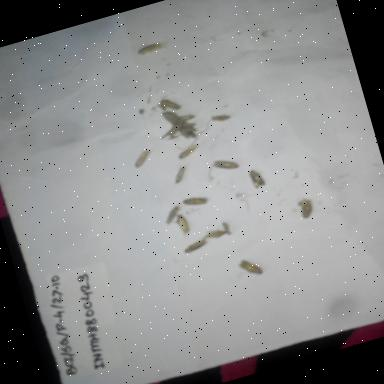pbw: (235, 253, 269, 283), (154, 198, 184, 228), (133, 36, 169, 60), (294, 196, 324, 222), (178, 235, 213, 257), (242, 165, 270, 192), (211, 154, 242, 178), (200, 224, 231, 246), (130, 148, 156, 173), (180, 191, 210, 212), (159, 92, 185, 115), (207, 109, 235, 130), (174, 211, 196, 236), (174, 142, 202, 161), (170, 164, 194, 186)
